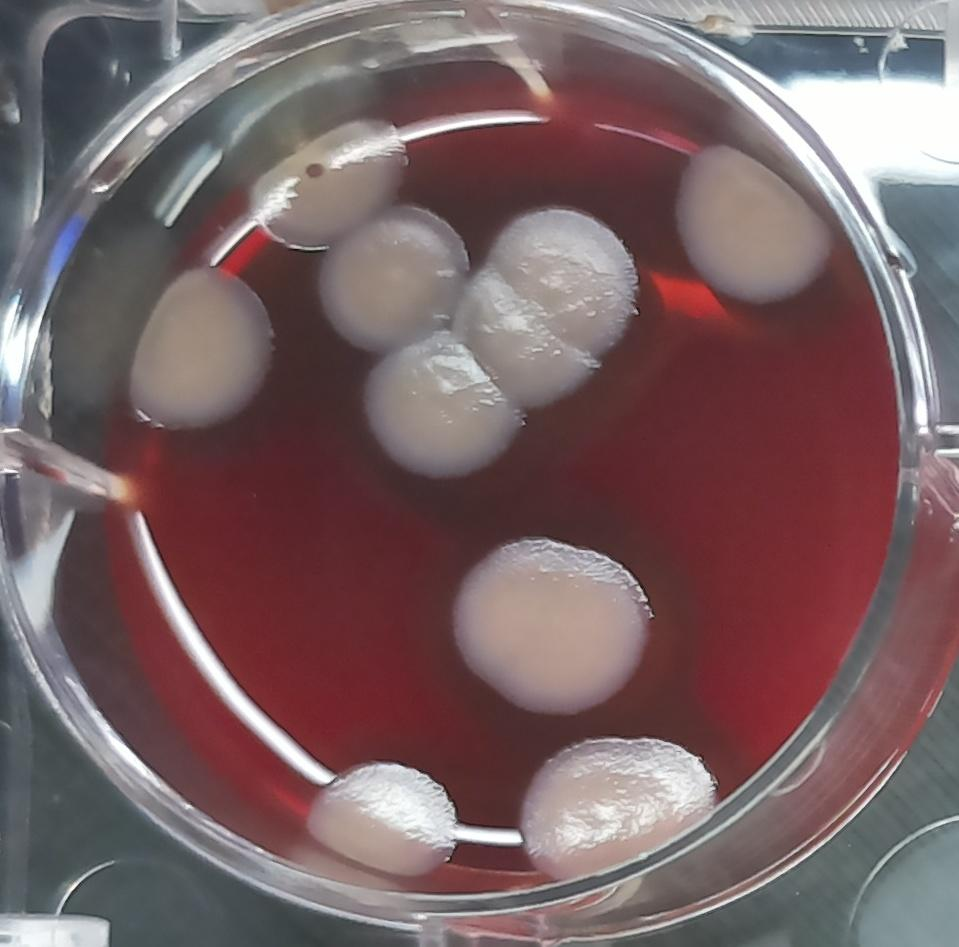bcereus: (434, 502, 684, 744), (462, 182, 661, 416), (646, 126, 857, 333), (496, 708, 745, 879), (352, 322, 547, 496), (109, 266, 281, 455), (288, 190, 469, 348), (294, 738, 471, 880), (247, 101, 410, 248)
